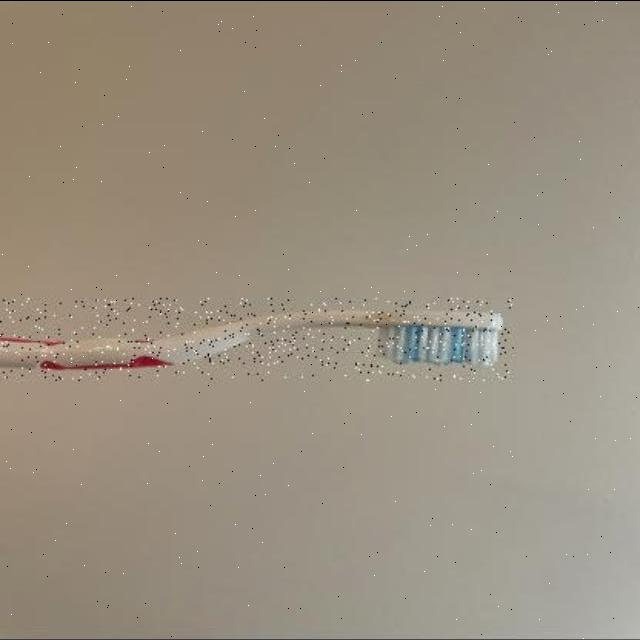toothbrush: (1, 300, 514, 382)
